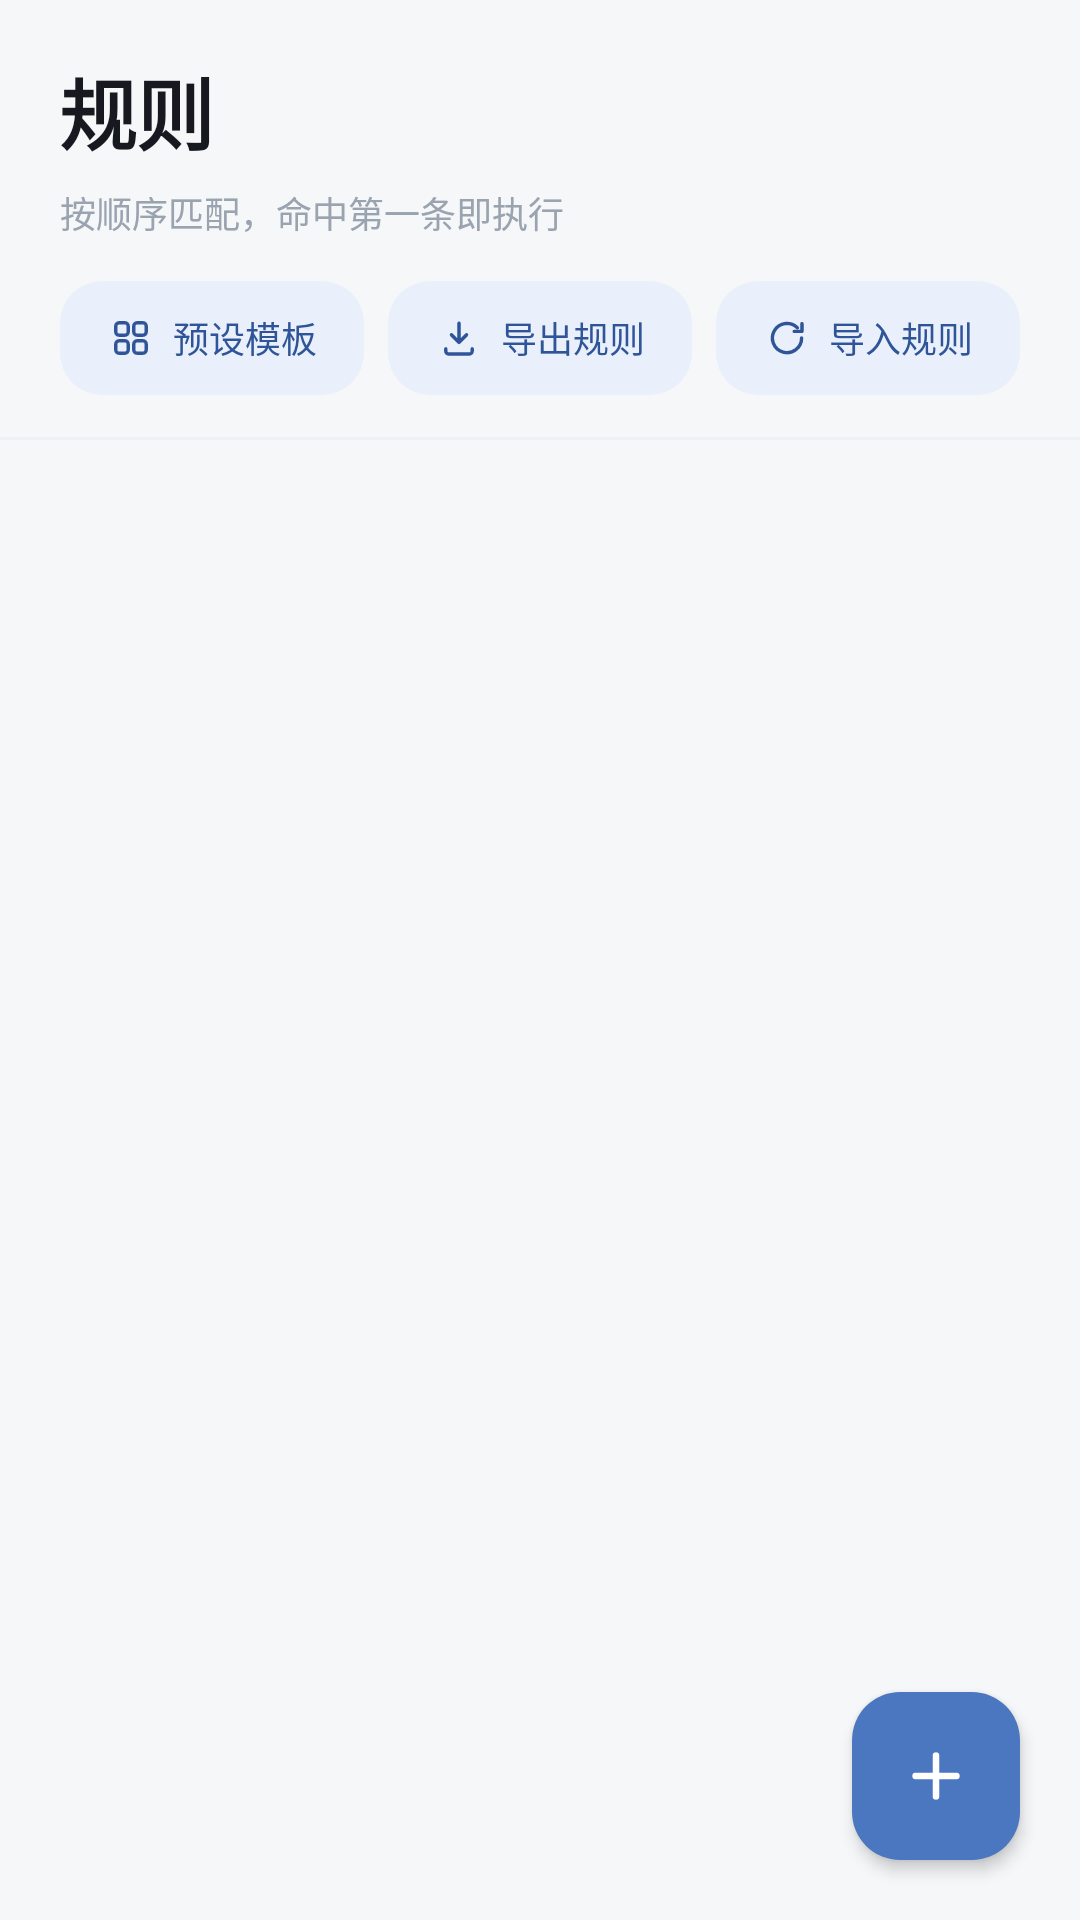

Point at icon controls on the screen. Image size 1080px×1920px, points as point (x, y).
新建规则: point (936, 1776)
